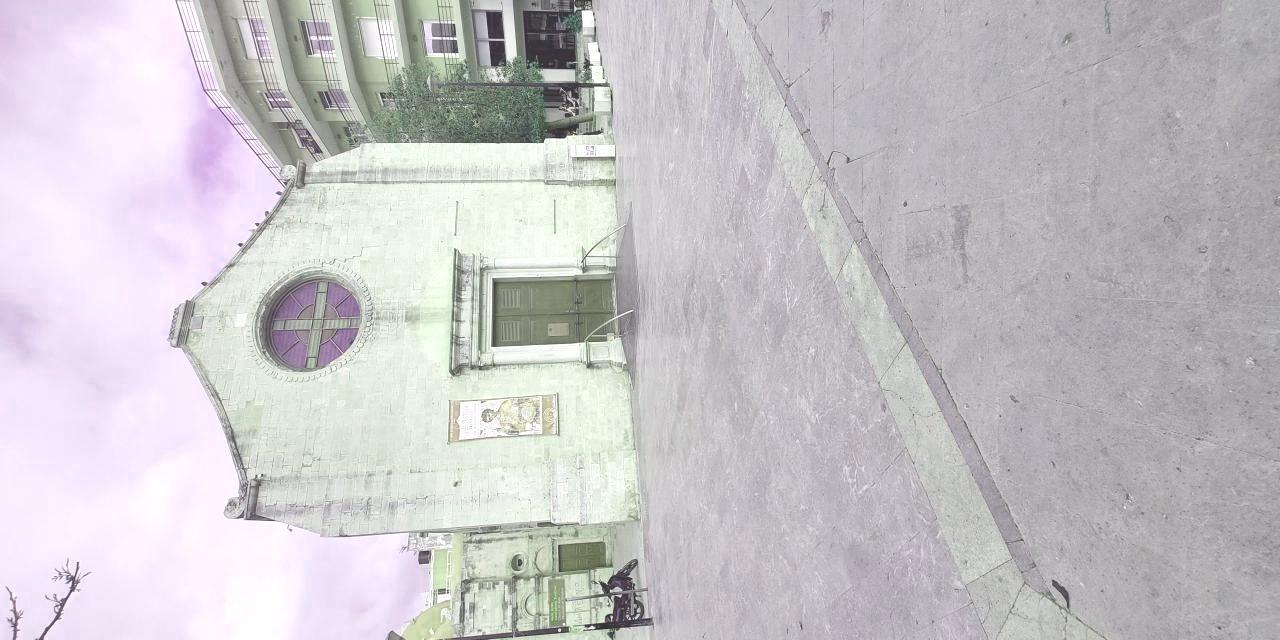Agia Aikaterini: (153, 107, 625, 562)
